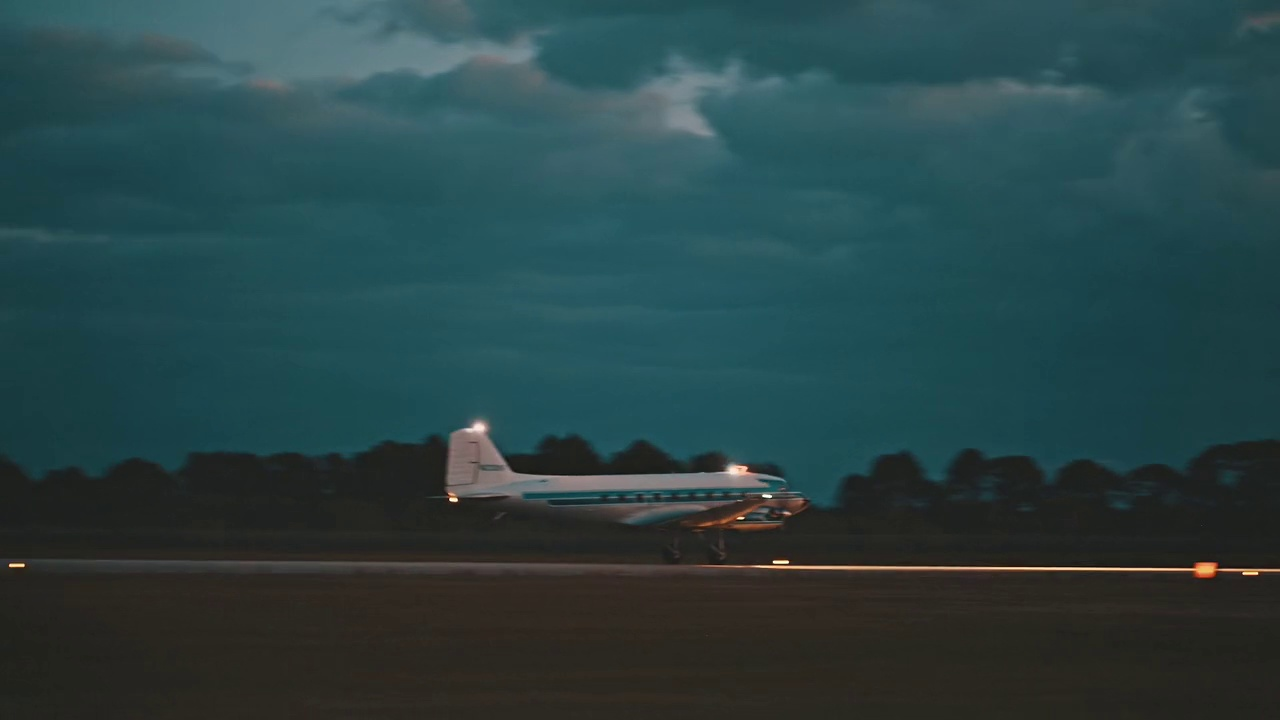plane: (425, 424, 810, 567)
